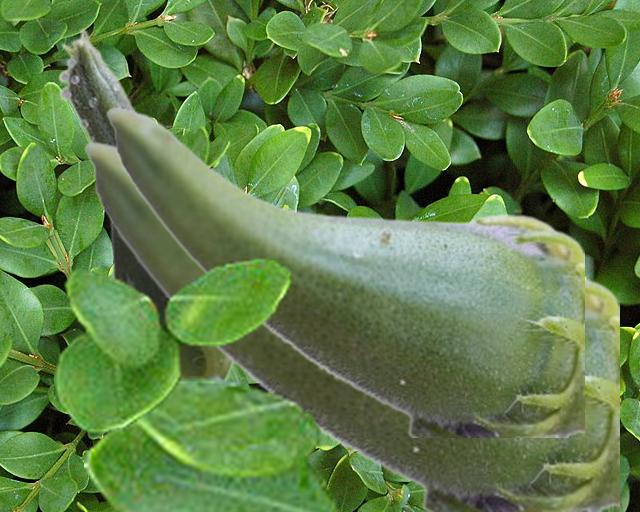okra: (83, 140, 618, 510), (105, 106, 583, 436), (57, 28, 233, 377)
